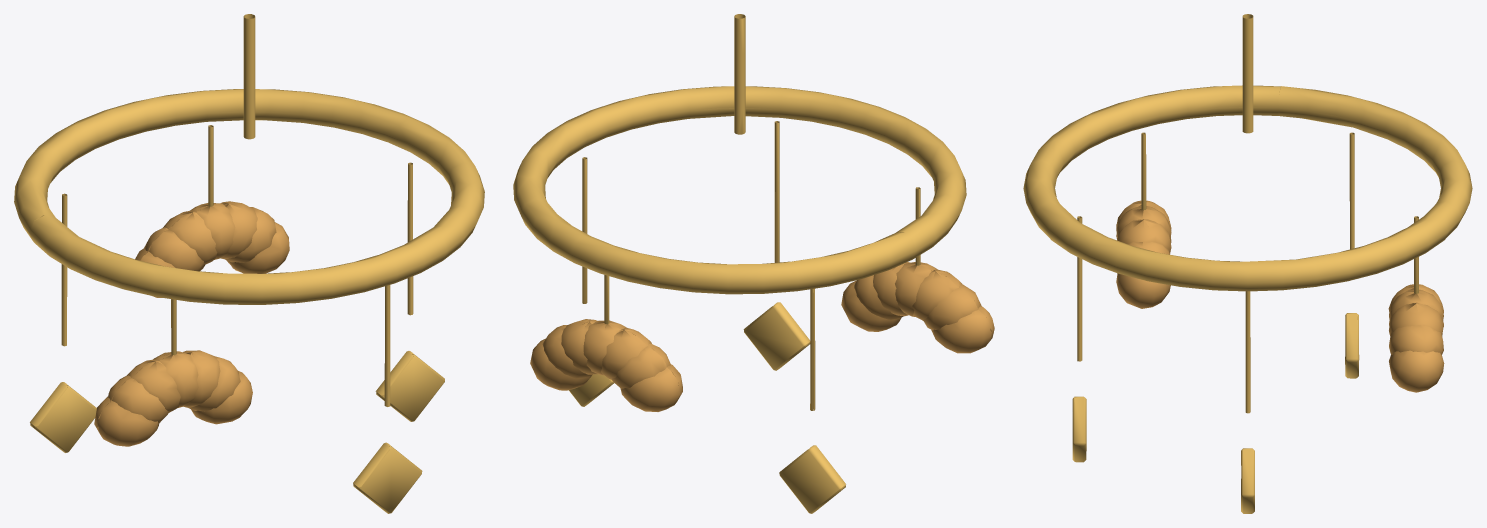
The picture shows the model from 3 angles, left to right: view 1: azimuth 30°, elevation 25°; view 2: azimuth 150°, elevation 25°; view 3: azimuth 270°, elevation 25°; orthographic projection. The views are drawn at different scales.
Parts seen in each view (by area): view 1: Mobile ring, Flaky crescent, Ceiling chain; view 2: Mobile ring, Flaky crescent, Ceiling chain; view 3: Mobile ring, Flaky crescent, Ceiling chain.
Boxes of the visible parts, <box> form: Mobile ring: <box>14,89,484,513</box>; Flaky crescent: <box>94,201,289,446</box>; Ceiling chain: <box>243,14,255,139</box>; Mobile ring: <box>513,86,966,513</box>; Flaky crescent: <box>530,262,994,411</box>; Ceiling chain: <box>734,14,745,134</box>; Mobile ring: <box>1023,85,1472,513</box>; Flaky crescent: <box>1116,200,1444,392</box>; Ceiling chain: <box>1242,14,1253,133</box>.
Bounding box in the file's own units: 0.714 × 0.736 × 0.71.
